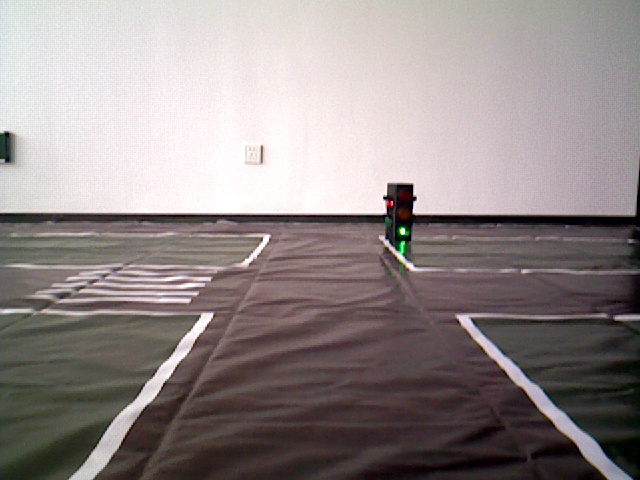green: (387, 184, 413, 241)
